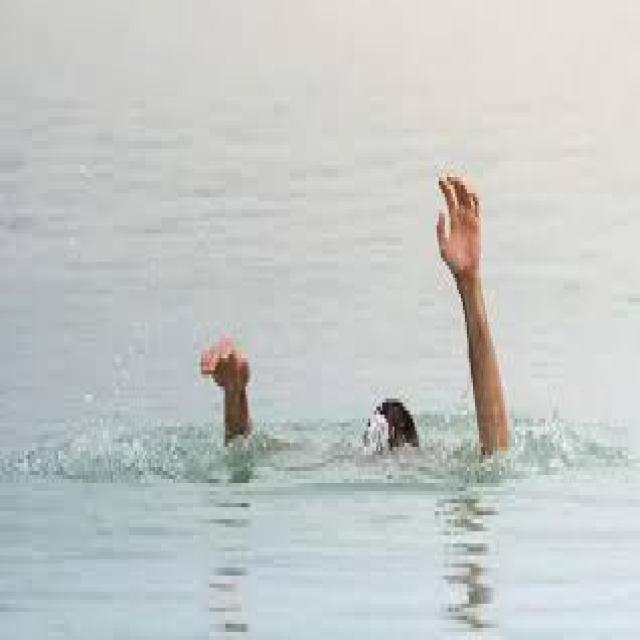Out of Water: (196, 172, 518, 474)
